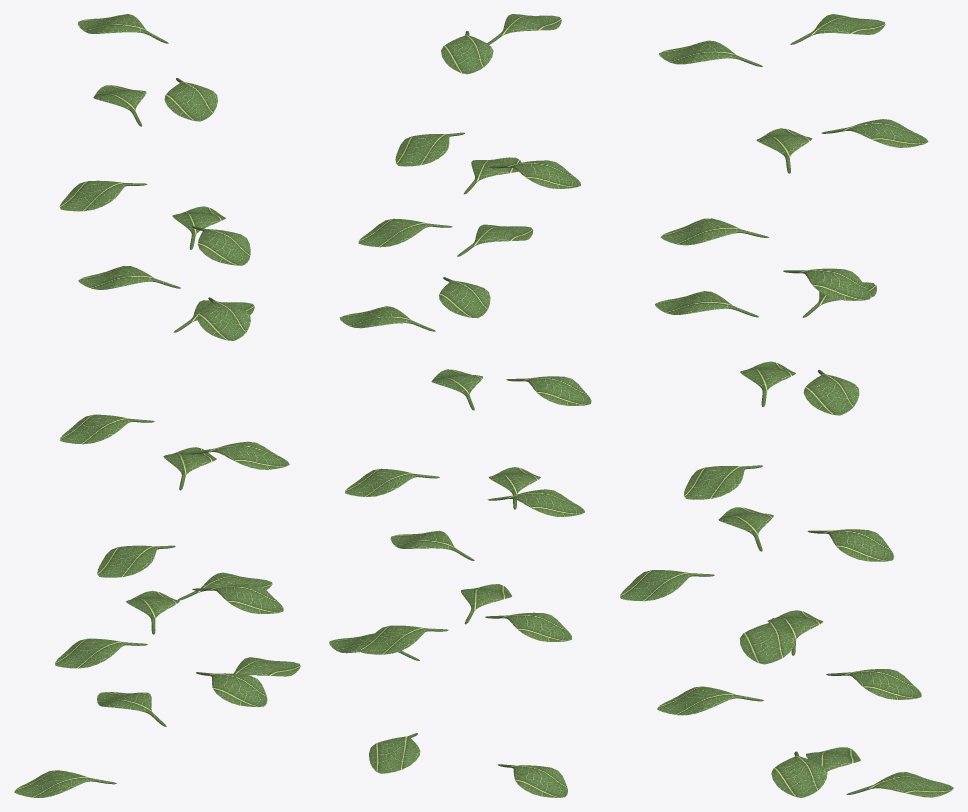
File: TreeDecos.fbx
The picture shows the model from 3 angles, left to right: view 1: azimuth 30°, elevation 25°; view 2: azimuth 150°, elevation 25°; view 3: azimuth 270°, elevation 25°; orthographic projection. The views are drawn at different scales.
Parts seen in each view (by area): view 1: TreeDeco.021, TreeDeco.016, TreeDeco.017, TreeDeco.002, TreeDeco.009, TreeDeco.018, TreeDeco.003, TreeDeco.008, TreeDeco.012, TreeDeco.011, TreeDeco.004, TreeDeco.013 (+8 smaller); view 2: TreeDeco.020, TreeDeco.013, TreeDeco.005, TreeDeco.019, TreeDeco.004, TreeDeco.012, TreeDeco.006, TreeDeco.003, TreeDeco.018, TreeDeco.014, TreeDeco.010, TreeDeco.009 (+9 smaller); view 3: TreeDeco.001, TreeDeco.015, TreeDeco.007, TreeDeco.011, TreeDeco.010, TreeDeco.014, TreeDeco.008, TreeDeco.006, TreeDeco.002, TreeDeco.019, TreeDeco.017, TreeDeco.005 (+8 smaller).
Boxes of the visible parts, left/top/right/bottom form: TreeDeco.021: left=164, top=78, right=217, bottom=121; TreeDeco.016: left=197, top=297, right=250, bottom=340; TreeDeco.017: left=192, top=226, right=250, bottom=265; TreeDeco.002: left=196, top=672, right=267, bottom=707; TreeDeco.009: left=97, top=545, right=175, bottom=577; TreeDeco.018: left=59, top=180, right=147, bottom=211; TreeDeco.003: left=55, top=638, right=147, bottom=668; TreeDeco.008: left=192, top=584, right=283, bottom=613; TreeDeco.012: left=60, top=414, right=154, bottom=444; TreeDeco.011: left=188, top=441, right=289, bottom=469; TreeDeco.004: left=14, top=770, right=116, bottom=797; TreeDeco.013: left=78, top=265, right=180, bottom=289; TreeDeco.020: left=441, top=31, right=493, bottom=74; TreeDeco.013: left=439, top=277, right=490, bottom=318; TreeDeco.005: left=369, top=733, right=420, bottom=773; TreeDeco.019: left=395, top=132, right=464, bottom=166; TreeDeco.004: left=498, top=764, right=567, bottom=797; TreeDeco.012: left=506, top=376, right=591, bottom=405; TreeDeco.006: left=360, top=625, right=448, bottom=654; TreeDeco.003: left=485, top=612, right=572, bottom=641; TreeDeco.018: left=489, top=160, right=580, bottom=188; TreeDeco.014: left=358, top=218, right=452, bottom=247; TreeDeco.010: left=345, top=468, right=439, bottom=496; TreeDeco.009: left=487, top=489, right=584, bottom=516; TreeDeco.001: left=771, top=751, right=827, bottom=797; TreeDeco.015: left=803, top=370, right=859, bottom=415; TreeDeco.007: left=739, top=618, right=795, bottom=664; TreeDeco.011: left=684, top=465, right=762, bottom=499; TreeDeco.010: left=807, top=529, right=894, bottom=561; TreeDeco.014: left=783, top=268, right=871, bottom=300; TreeDeco.008: left=620, top=570, right=714, bottom=601; TreeDeco.006: left=826, top=669, right=921, bottom=699; TreeDeco.002: left=657, top=686, right=763, bottom=715; TreeDeco.019: left=821, top=119, right=928, bottom=147; TreeDeco.017: left=660, top=218, right=768, bottom=245; TreeDeco.005: left=846, top=772, right=953, bottom=797.
Size of the model in its own units: 11.9 by 32.26 by 12.53.
1 material, 1 textured.
